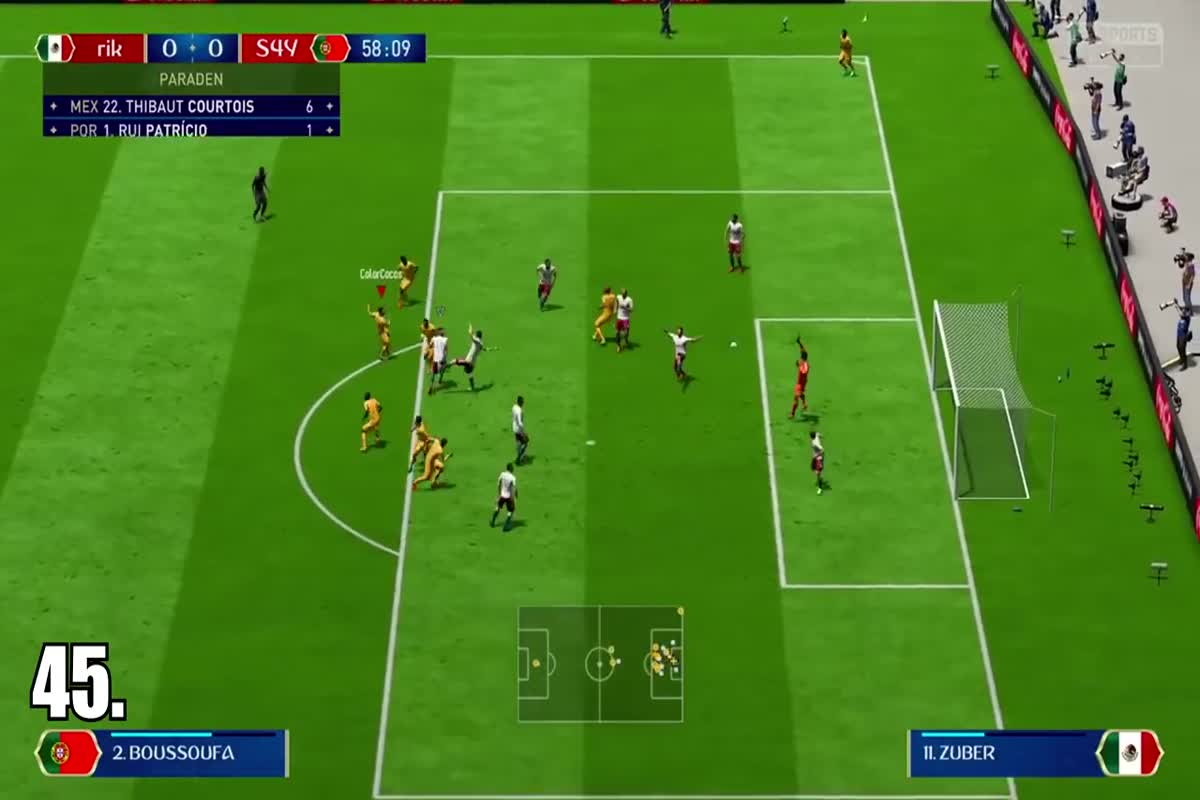ball: (719, 335, 745, 354)
